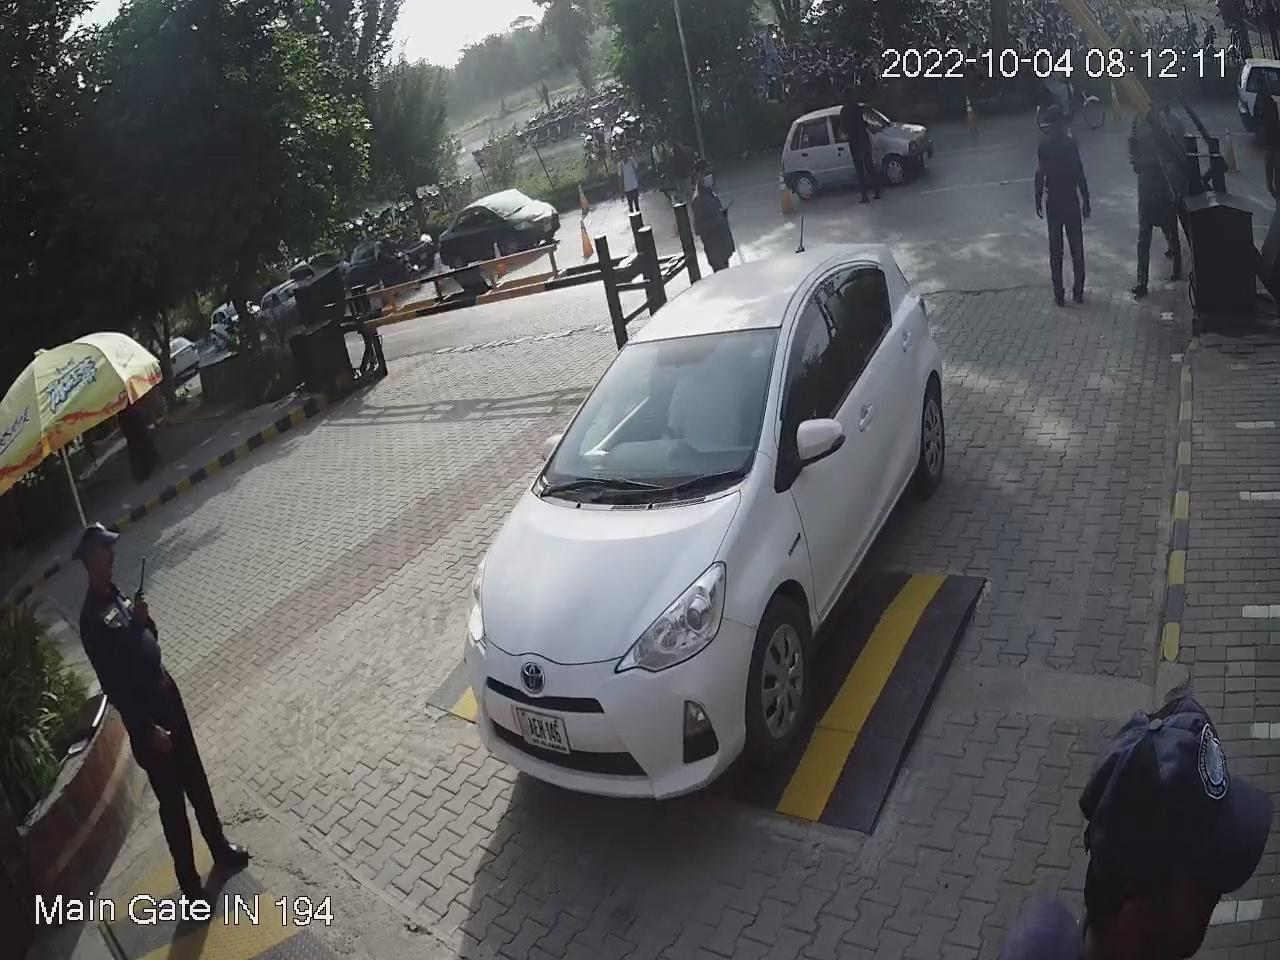windshield: (540, 320, 773, 478)
